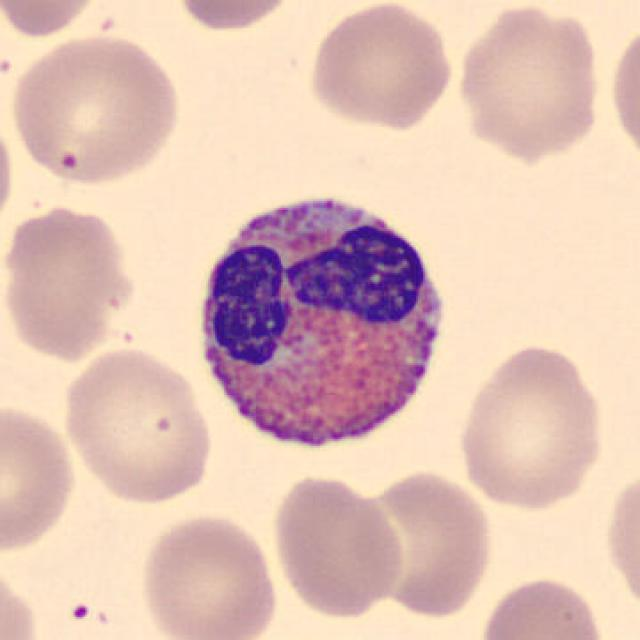Eosinophil: (185, 175, 460, 474)
RBC: (5, 30, 185, 189), (453, 340, 610, 513), (57, 342, 217, 506), (452, 0, 606, 164), (0, 199, 140, 363), (352, 466, 498, 622), (267, 470, 407, 620), (304, 0, 457, 132), (135, 509, 282, 640), (0, 399, 80, 557), (474, 571, 612, 640), (601, 462, 640, 624), (606, 14, 640, 169), (168, 0, 302, 35), (0, 0, 108, 40), (0, 559, 43, 640), (0, 106, 20, 240)
